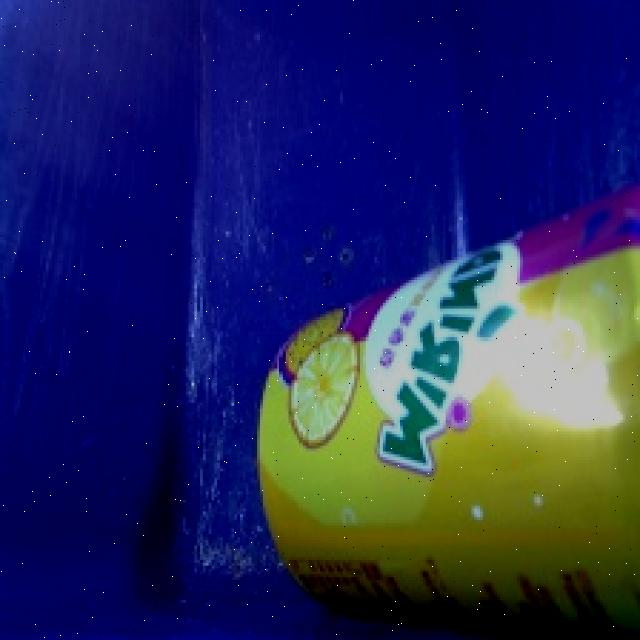metal: (246, 174, 640, 640)
